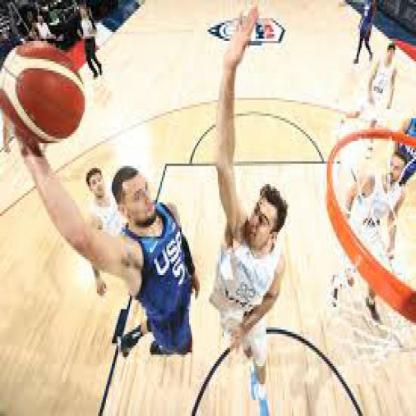basketball: (0, 40, 86, 147)
rim: (324, 124, 414, 330)
